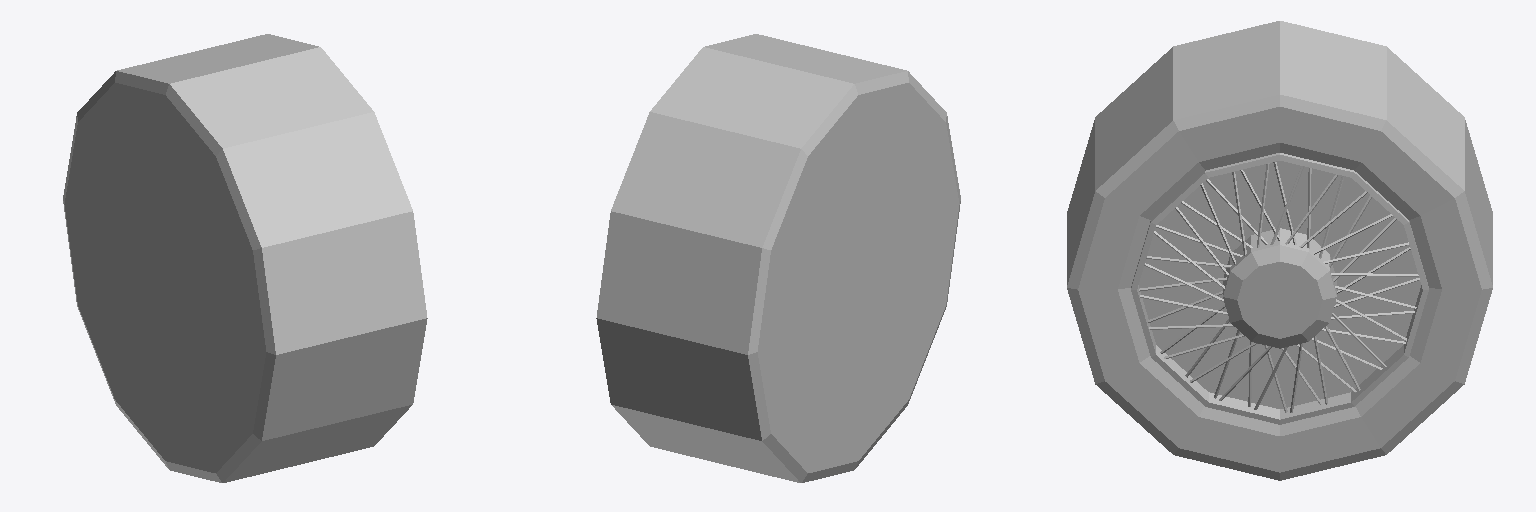
The model's file is car_Lwheel.obj.
3 renders of one model, left to right at view 1: azimuth 30°, elevation 25°; view 2: azimuth 150°, elevation 25°; view 3: azimuth 270°, elevation 25°, orthographic.
Visible parts, largest first — view 1: Tire_back_L_Mesh.005; view 2: Tire_back_L_Mesh.005; view 3: Tire_back_L_Mesh.005.
Boxes of the visible parts, x1=… form: Tire_back_L_Mesh.005: x1=63, y1=34, x2=427, y2=482; Tire_back_L_Mesh.005: x1=596, y1=34, x2=960, y2=482; Tire_back_L_Mesh.005: x1=1067, y1=21, x2=1492, y2=480.
Size of the model in its own units: 0.2945 by 0.6006 by 0.6006.